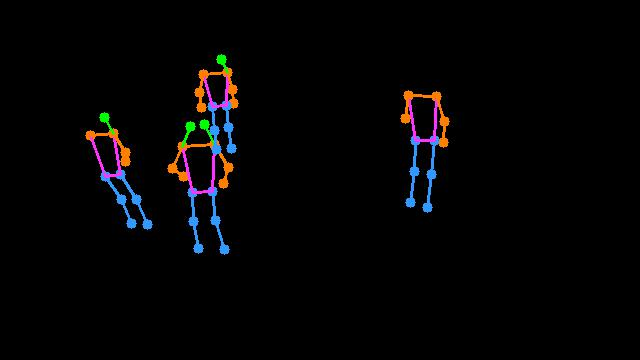normal: (153, 39, 266, 270)
